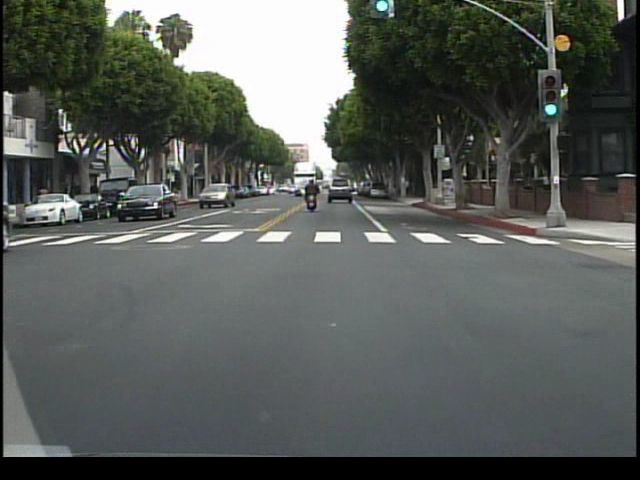person: (302, 176, 322, 215)
